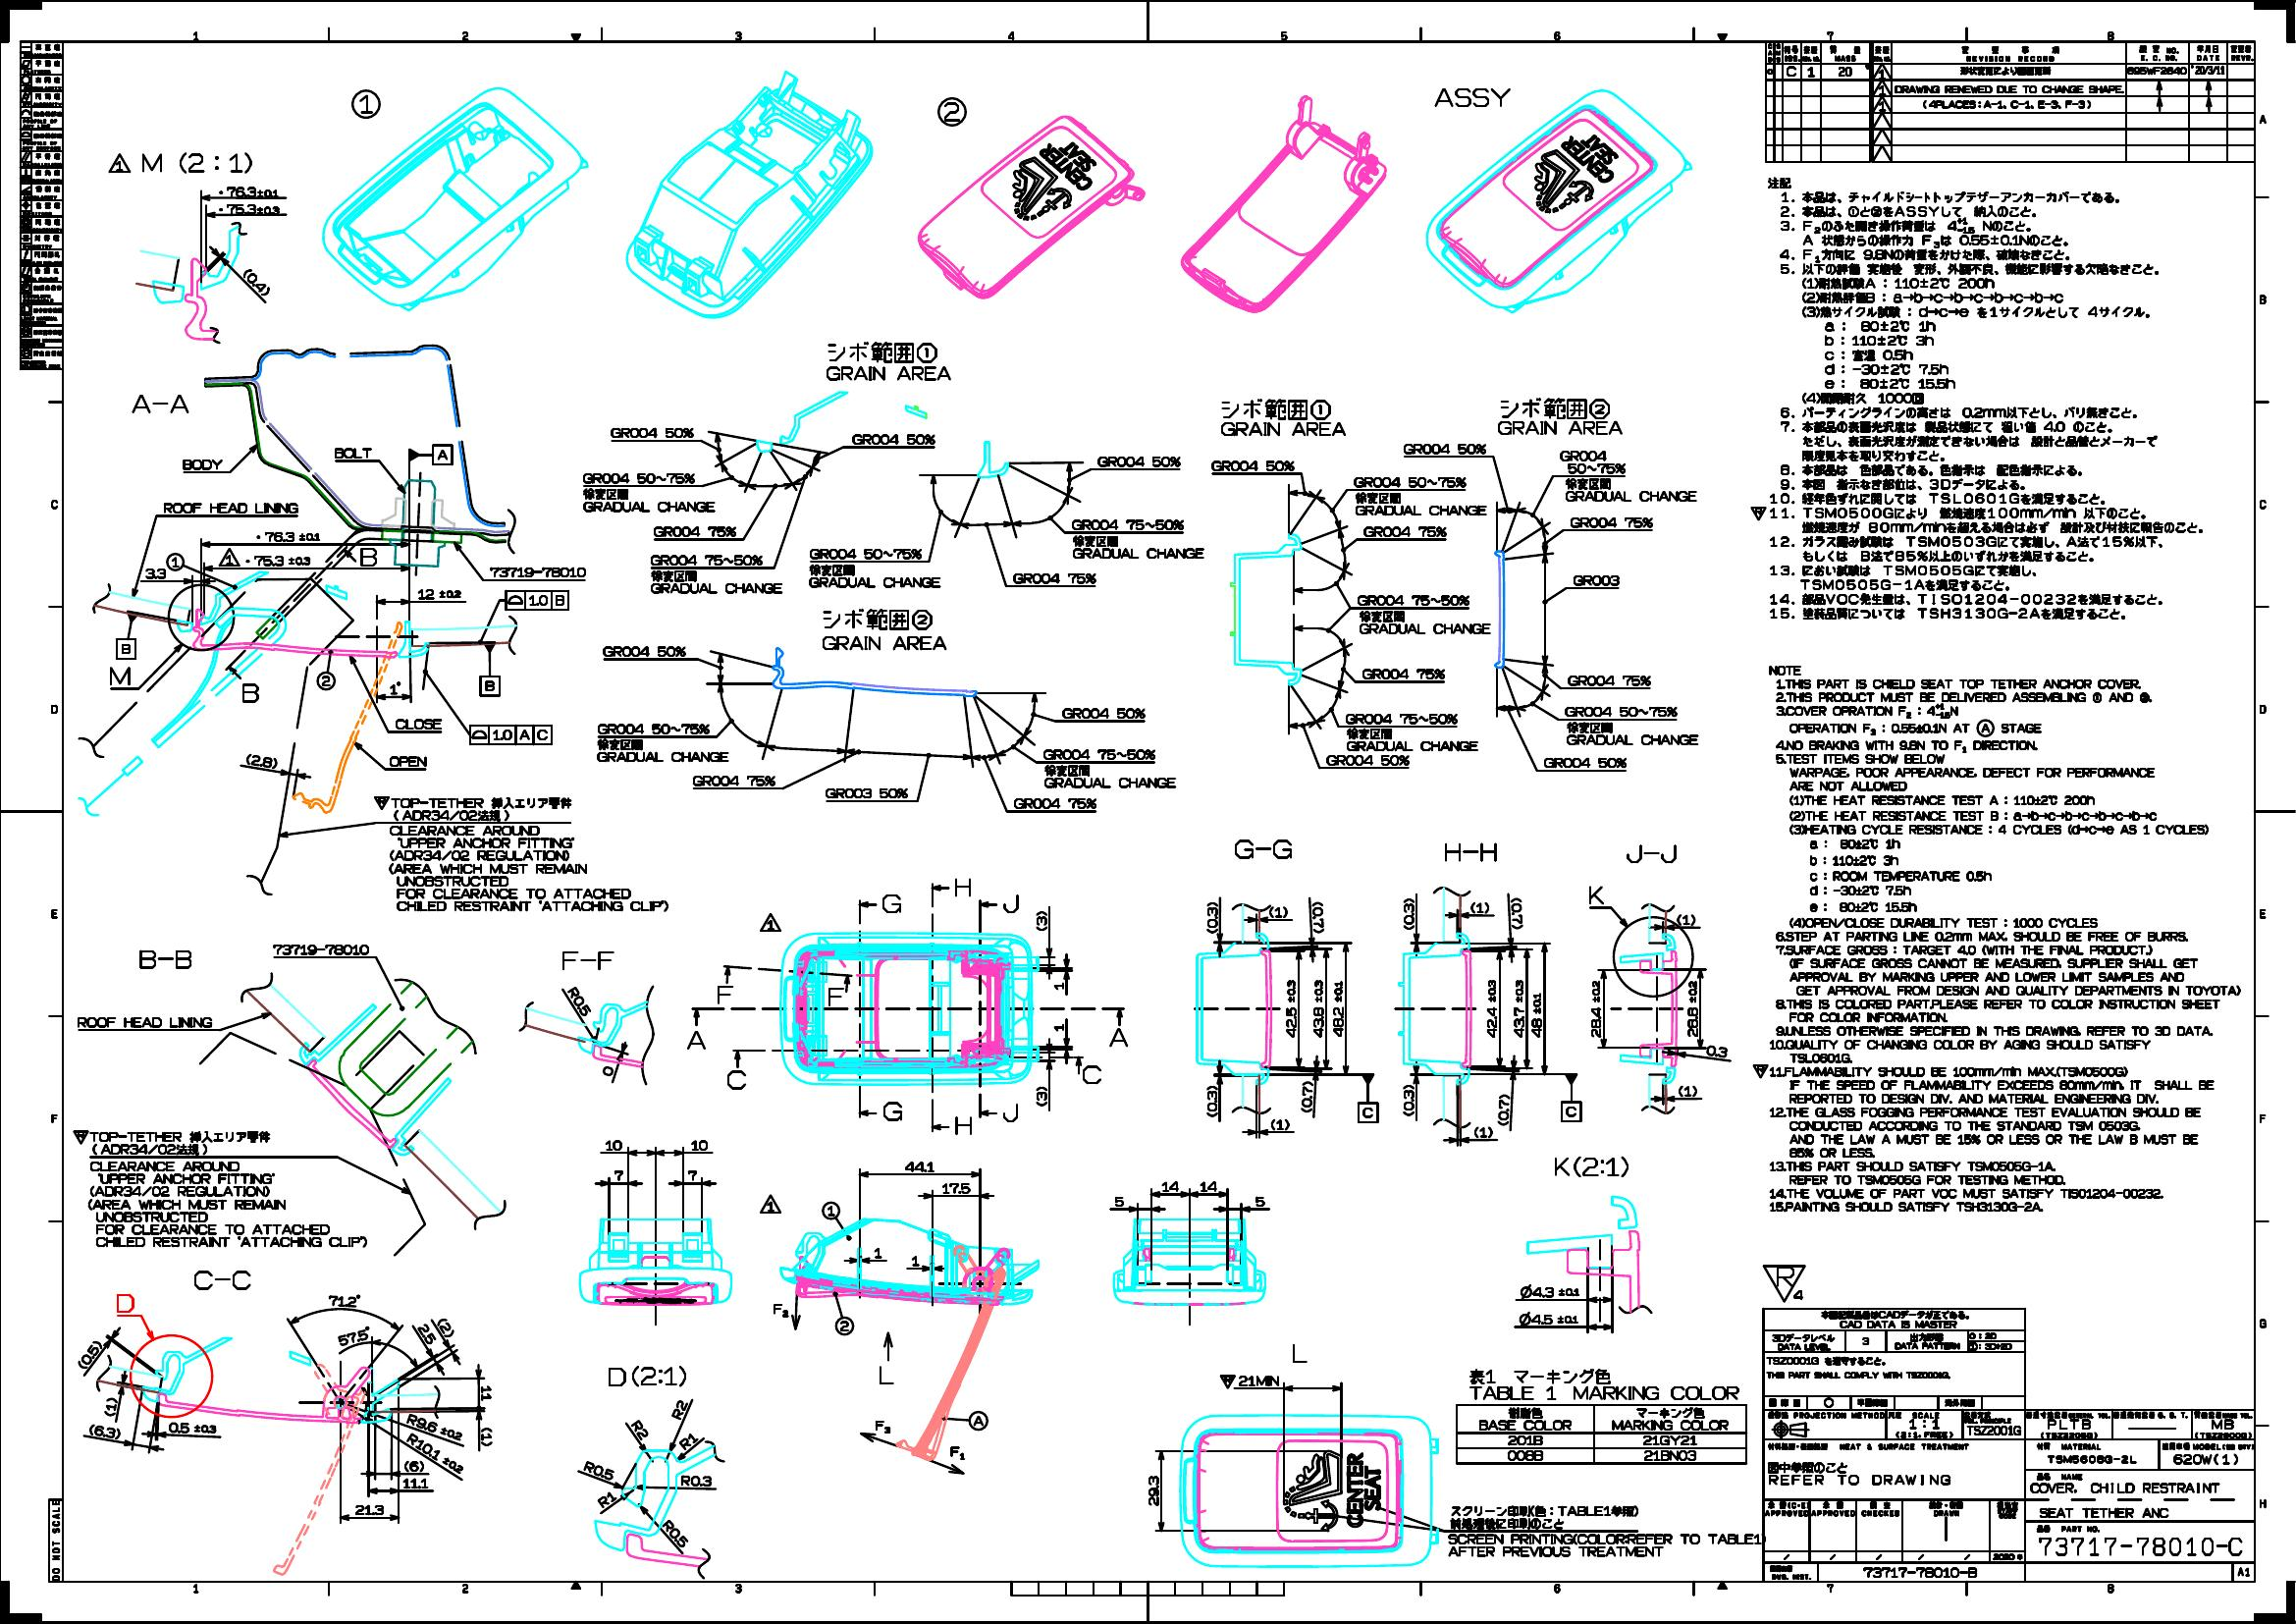anntotation_text: (1746, 172, 2243, 1216), (70, 1128, 369, 1248), (372, 796, 671, 912), (1448, 1504, 1765, 1559), (1467, 1367, 1741, 1401), (1558, 448, 1699, 503), (1356, 592, 1493, 636), (581, 471, 717, 515), (1353, 475, 1488, 517), (1070, 517, 1205, 559), (808, 547, 942, 589), (1563, 705, 1700, 745), (824, 339, 954, 381), (1344, 710, 1479, 750), (648, 554, 783, 594), (1042, 749, 1177, 789), (596, 722, 731, 763), (822, 608, 949, 650), (1217, 397, 1349, 438), (1495, 397, 1625, 436), (107, 151, 255, 174), (1762, 1262, 1806, 1302), (76, 1016, 213, 1028), (163, 501, 299, 513), (1433, 86, 1511, 107), (1555, 1156, 1628, 1178), (608, 1366, 687, 1385), (469, 726, 552, 743), (272, 942, 371, 956), (193, 1269, 249, 1292), (1233, 838, 1293, 859), (506, 591, 569, 610), (1569, 515, 1655, 529), (1402, 441, 1488, 455), (1325, 752, 1411, 766), (850, 432, 936, 446), (1625, 842, 1679, 863), (560, 949, 615, 970), (130, 394, 188, 413), (137, 949, 193, 968), (1360, 668, 1448, 680), (1096, 455, 1182, 468), (1012, 571, 1098, 584), (608, 425, 694, 438), (1059, 707, 1145, 719), (1444, 842, 1498, 861), (1542, 756, 1627, 768), (1363, 526, 1448, 538), (1210, 459, 1295, 471), (603, 645, 687, 657), (488, 566, 587, 576), (653, 526, 736, 538), (350, 88, 381, 120), (936, 97, 966, 127), (1567, 675, 1651, 685), (1014, 798, 1098, 808), (824, 787, 908, 798), (692, 775, 775, 786), (1219, 1374, 1279, 1388), (1572, 573, 1620, 587), (395, 717, 443, 729), (757, 910, 782, 933), (181, 459, 223, 471), (757, 1193, 783, 1213), (724, 1069, 747, 1090), (334, 446, 372, 459), (882, 1100, 903, 1121), (968, 1410, 989, 1431), (109, 666, 132, 685), (218, 547, 241, 566), (1108, 1026, 1128, 1048), (1358, 1102, 1377, 1123), (1560, 1102, 1581, 1121), (388, 756, 427, 766), (241, 682, 260, 703), (314, 671, 336, 691), (882, 893, 901, 914), (685, 1030, 706, 1049), (833, 1316, 854, 1336), (954, 1116, 973, 1135), (1082, 1065, 1101, 1084), (116, 640, 135, 659), (165, 552, 184, 571), (480, 677, 499, 696), (432, 445, 451, 464), (715, 984, 734, 1004), (116, 1294, 135, 1313), (820, 1200, 840, 1220), (1003, 893, 1021, 914), (827, 986, 845, 1007), (954, 877, 971, 896), (360, 547, 378, 566), (1588, 884, 1604, 905), (878, 1366, 894, 1385), (1291, 1343, 1307, 1362), (1003, 1102, 1017, 1123), (949, 1445, 966, 1461), (773, 1302, 789, 1318), (875, 1420, 891, 1434)
dimension_text: (1520, 1283, 1579, 1299), (1518, 1311, 1579, 1325), (1484, 977, 1498, 1039), (402, 1446, 469, 1459), (1284, 977, 1296, 1037), (406, 1422, 464, 1434), (1312, 979, 1325, 1037), (1513, 979, 1525, 1037), (1332, 981, 1344, 1037), (1686, 981, 1699, 1037), (253, 555, 311, 566), (264, 531, 320, 541), (1590, 981, 1600, 1037), (169, 1422, 216, 1434), (227, 202, 279, 213), (1530, 993, 1542, 1037), (227, 186, 278, 197), (337, 1329, 372, 1343), (416, 589, 462, 599), (329, 1294, 360, 1308), (239, 276, 272, 288), (88, 1425, 121, 1438), (72, 1348, 105, 1360), (562, 995, 596, 1007), (1205, 1084, 1217, 1118), (1300, 1081, 1312, 1114), (1497, 1093, 1509, 1127), (1511, 896, 1523, 930), (1147, 1475, 1159, 1506), (903, 1160, 935, 1172), (680, 1475, 711, 1487), (583, 1464, 615, 1476), (1312, 902, 1325, 933), (1402, 1084, 1414, 1116), (661, 1527, 690, 1540), (355, 1503, 385, 1515), (1207, 900, 1217, 933), (246, 756, 278, 766), (1404, 898, 1414, 930), (942, 1183, 971, 1193), (415, 1327, 437, 1339), (402, 1478, 429, 1489), (480, 1427, 494, 1446), (436, 1320, 455, 1334), (144, 568, 165, 580), (629, 1424, 650, 1436), (669, 1403, 690, 1415), (100, 1401, 121, 1413), (1035, 910, 1047, 932), (1706, 1044, 1727, 1056), (1676, 914, 1697, 926), (1159, 1179, 1179, 1192), (678, 1434, 697, 1446), (1268, 905, 1288, 917), (1270, 1118, 1289, 1130), (1470, 902, 1490, 914), (1678, 1084, 1697, 1097), (1036, 1086, 1047, 1107), (1472, 1127, 1493, 1137), (1200, 1179, 1217, 1192), (690, 1139, 708, 1151), (597, 1494, 617, 1504), (404, 1461, 423, 1471), (480, 1385, 492, 1401), (604, 1139, 622, 1149), (388, 680, 401, 694), (1254, 1195, 1265, 1207), (1114, 1195, 1124, 1207), (687, 1169, 697, 1181), (613, 1169, 624, 1181), (603, 1065, 613, 1076), (912, 1255, 921, 1267), (873, 1246, 882, 1258), (1054, 1023, 1065, 1032), (1052, 982, 1065, 990)
object: (77, 341, 513, 814), (97, 1336, 439, 1577), (778, 1216, 1040, 1462), (624, 70, 873, 320), (320, 86, 588, 313), (1425, 88, 1693, 315), (246, 981, 501, 1218), (1179, 93, 1388, 313), (917, 114, 1145, 299), (1179, 1413, 1440, 1568), (778, 932, 1040, 1086), (755, 390, 1008, 480), (1397, 886, 1472, 1127), (1195, 903, 1272, 1114), (594, 1445, 715, 1568), (1112, 1218, 1267, 1308), (1525, 1195, 1641, 1313), (578, 1218, 733, 1306), (1618, 902, 1679, 1114), (134, 225, 241, 341), (1230, 533, 1303, 685), (771, 647, 978, 698), (523, 1000, 648, 1067), (1493, 550, 1505, 668)
title_block: (1764, 1308, 2256, 1582), (1765, 40, 2256, 162), (1456, 1404, 1746, 1462), (19, 40, 63, 369)
